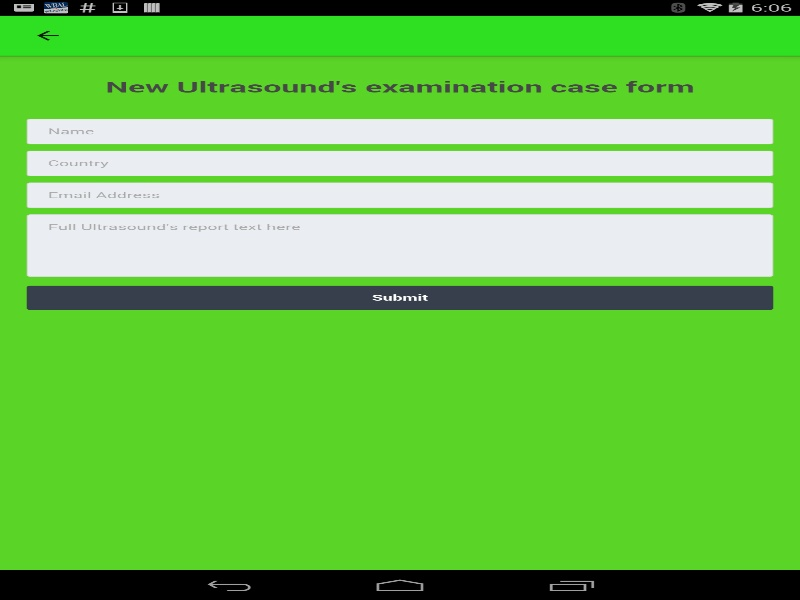Button: (26, 285, 773, 310), (10, 15, 85, 55), (0, 348, 62, 376)
Input: (26, 214, 773, 277), (26, 118, 773, 145), (26, 150, 773, 176), (26, 182, 773, 208)
